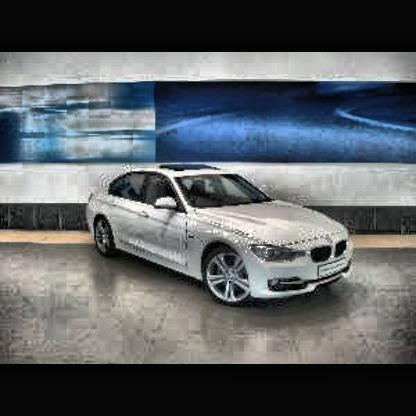BMW 3 Series Sedan 2012: (87, 165, 357, 309)
